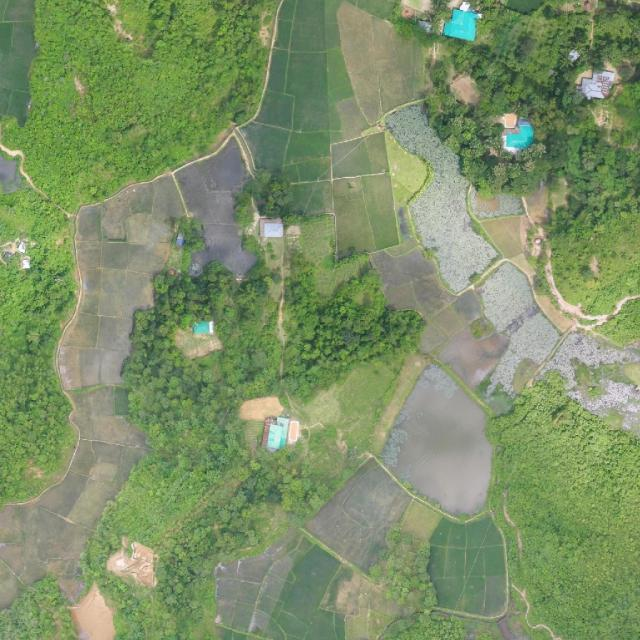building: (441, 0, 484, 44), (501, 114, 534, 153), (578, 70, 615, 101), (267, 416, 289, 450), (447, 71, 472, 98), (192, 320, 215, 335), (462, 94, 480, 108)
greenland: (11, 161, 450, 640), (489, 374, 640, 640)
